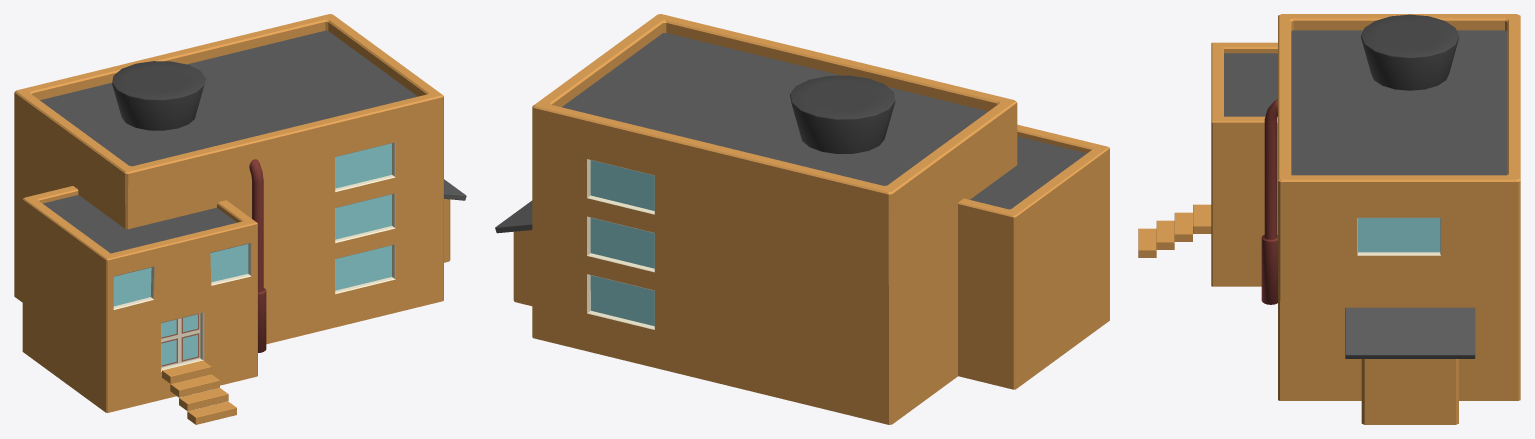
File: edificio_09.fbx
3 renders of one model, left to right at view 1: azimuth 30°, elevation 25°; view 2: azimuth 150°, elevation 25°; view 3: azimuth 270°, elevation 25°, orthographic. The views are drawn at different scales.
Parts seen in each view (by area): view 1: Cube.022; view 2: Cube.022; view 3: Cube.022.
Part boxes in pixels (bbox=[...]): Cube.022: bbox=[14, 14, 466, 424]; Cube.022: bbox=[495, 14, 1109, 424]; Cube.022: bbox=[1138, 14, 1520, 424].
Size of the model in its own units: 4000 by 2085 by 2916.
